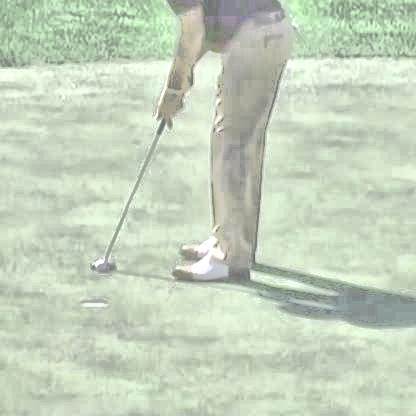golfball: (93, 255, 104, 268)
